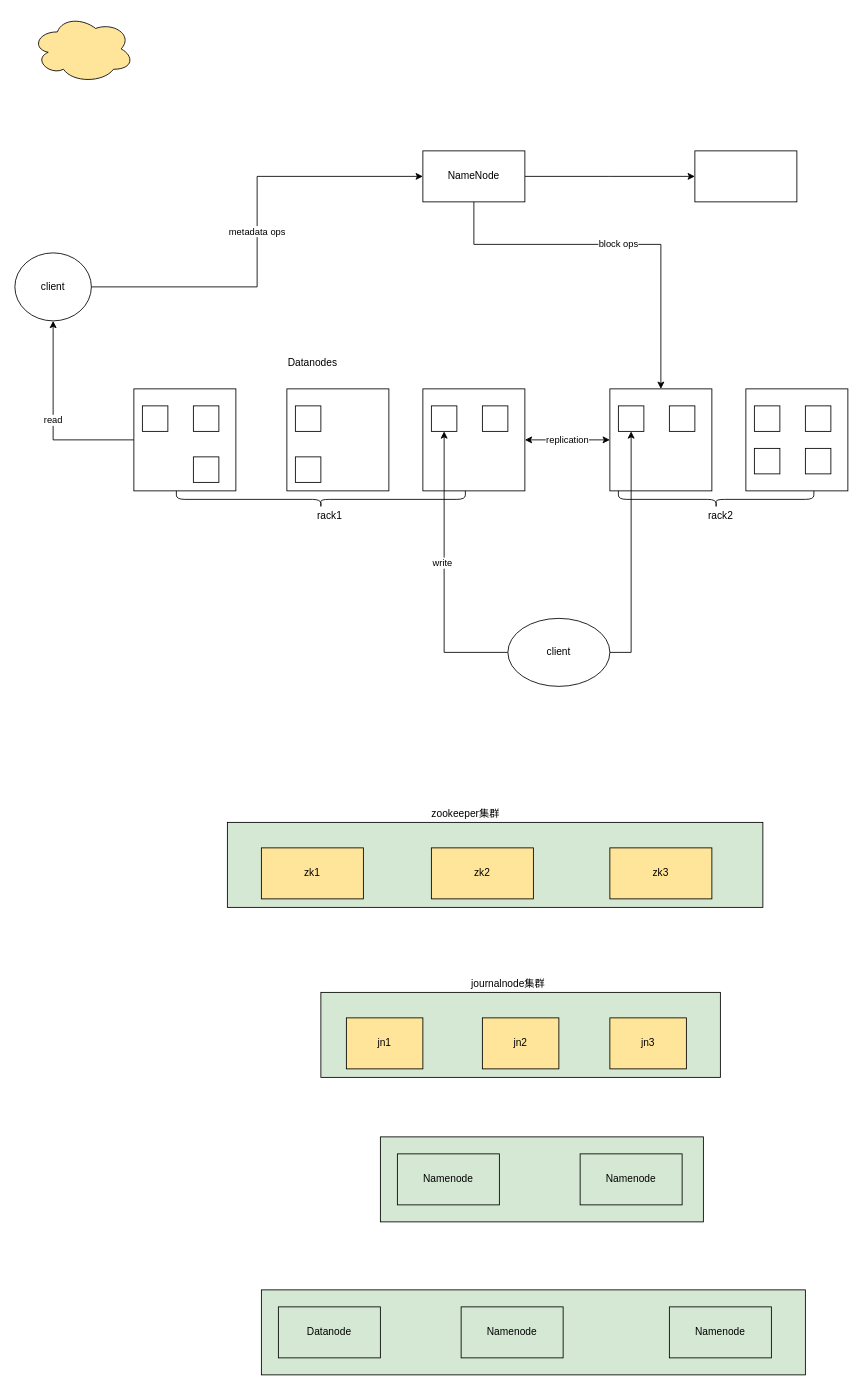
Image size: 863x1390. Some labels were removed from this diagram. The shapes that lost their labels are listed below. From the top down, each one's centre as x and y in pixels, then its label:
pixel 82 48: HDFS 1.x
pixel 745 176: Metadata（Name，replicas）
